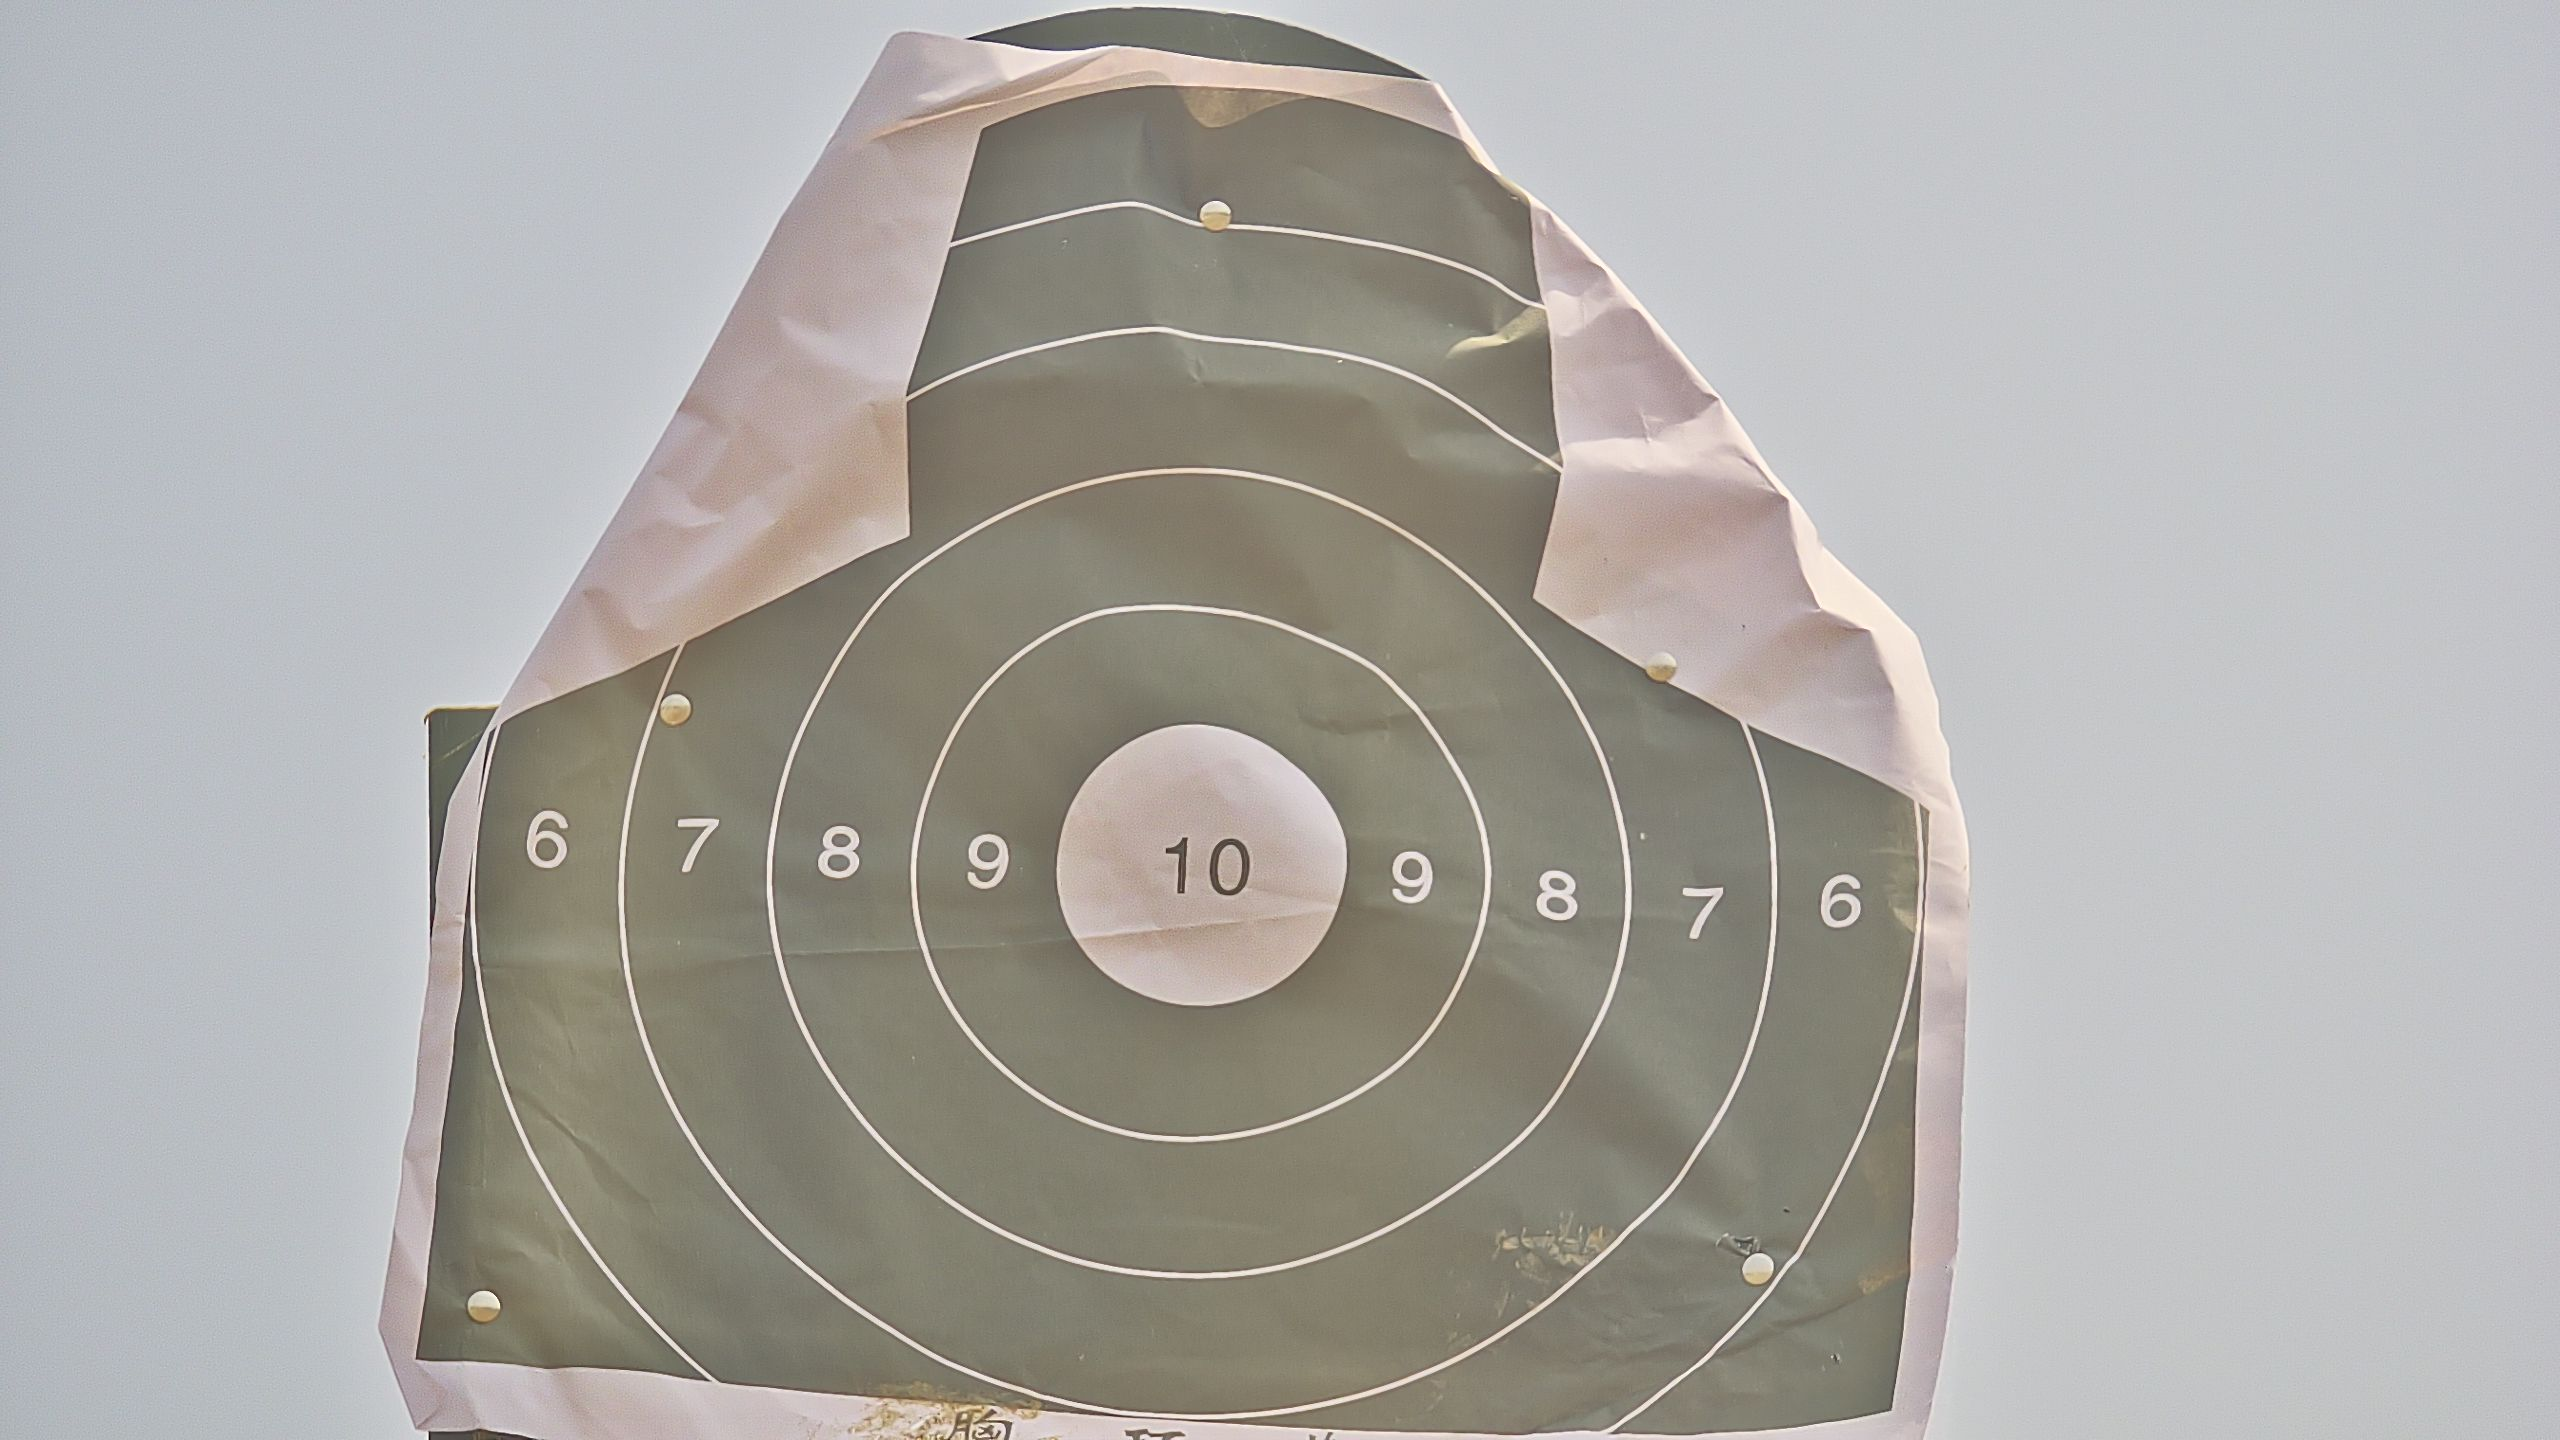kernel: (1194, 863, 1199, 870)
target: (408, 84, 1934, 1440)
ten: (1053, 723, 1350, 1007)
